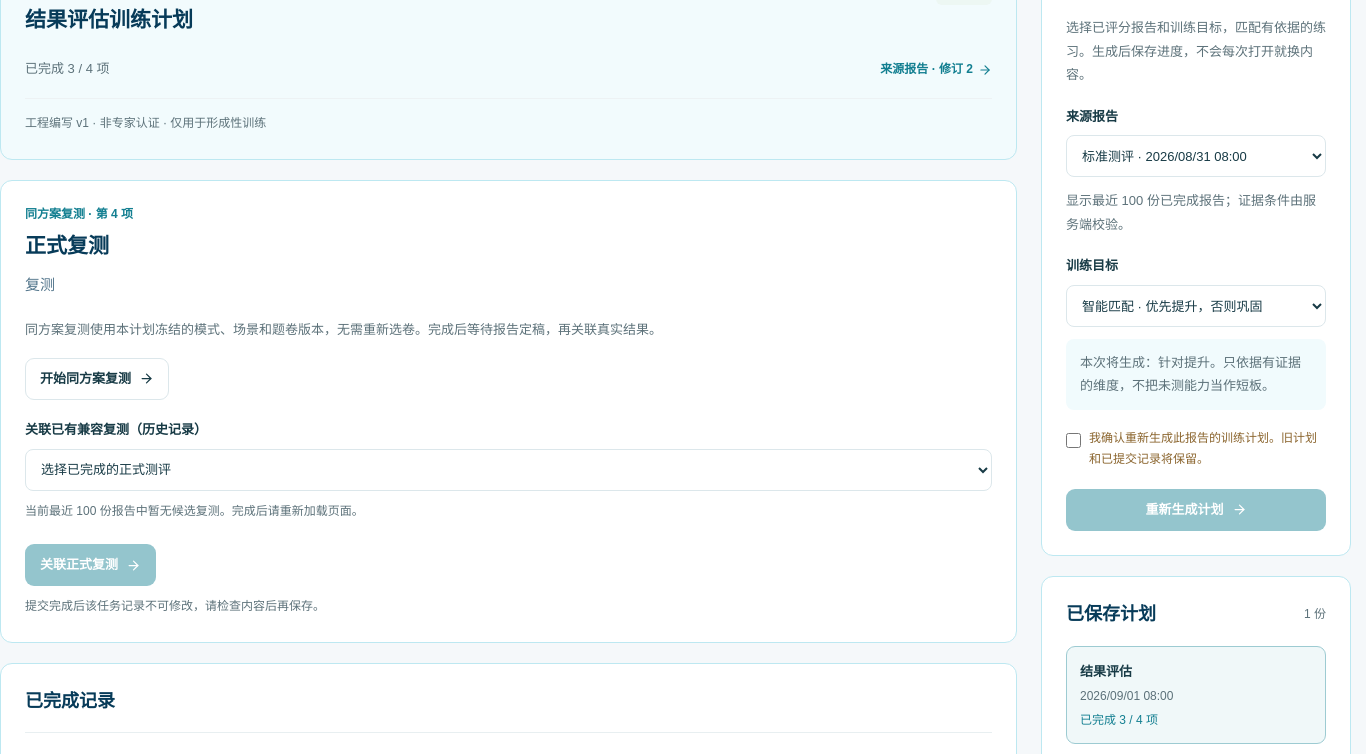
TrainingView › drops a pending launch response after the training feature is disabled
(page scrolled)
What coordinates should you click on to do the following:
click the button with test id "start-retest"
I would click on:
 (97, 379)
Its box is left=25, top=358, right=169, bottom=400.
(page scrolled)
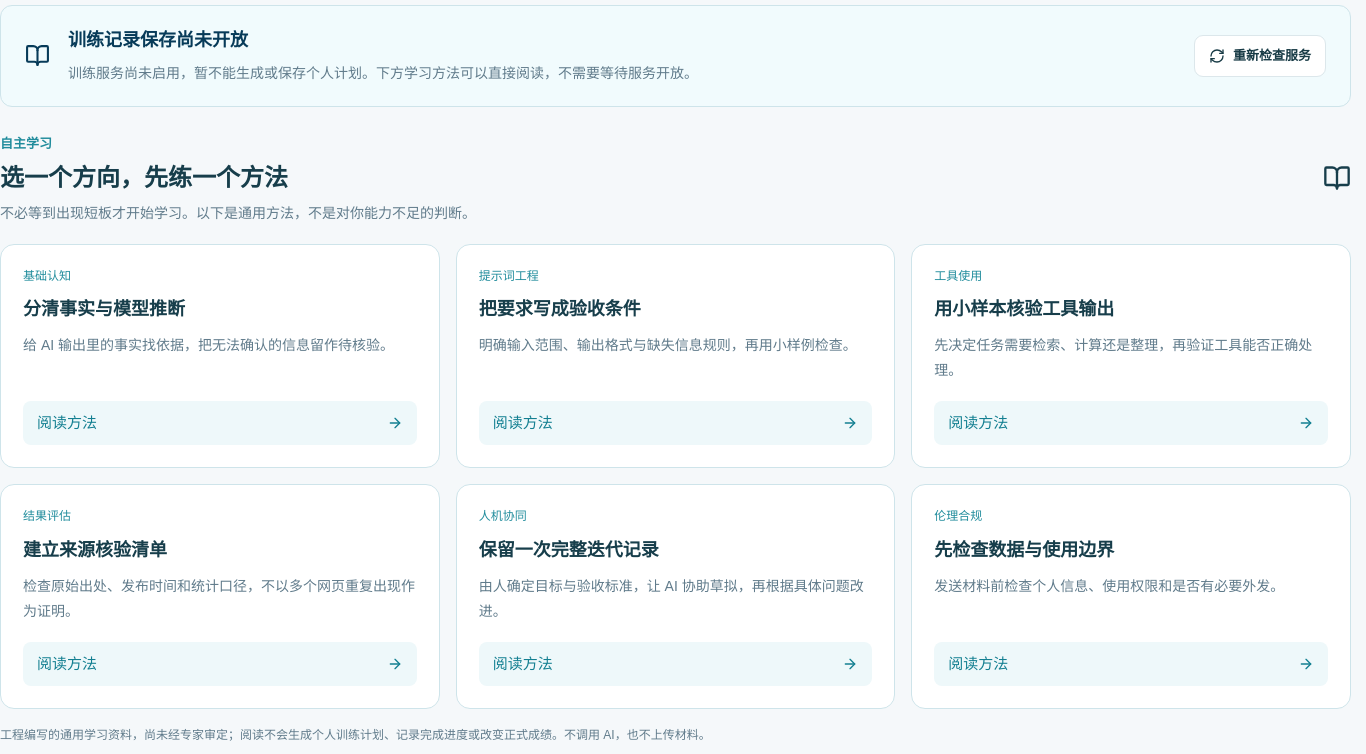
Result: the text "训练服务尚未启用" is shown at left=68, top=65, right=698, bottom=81
